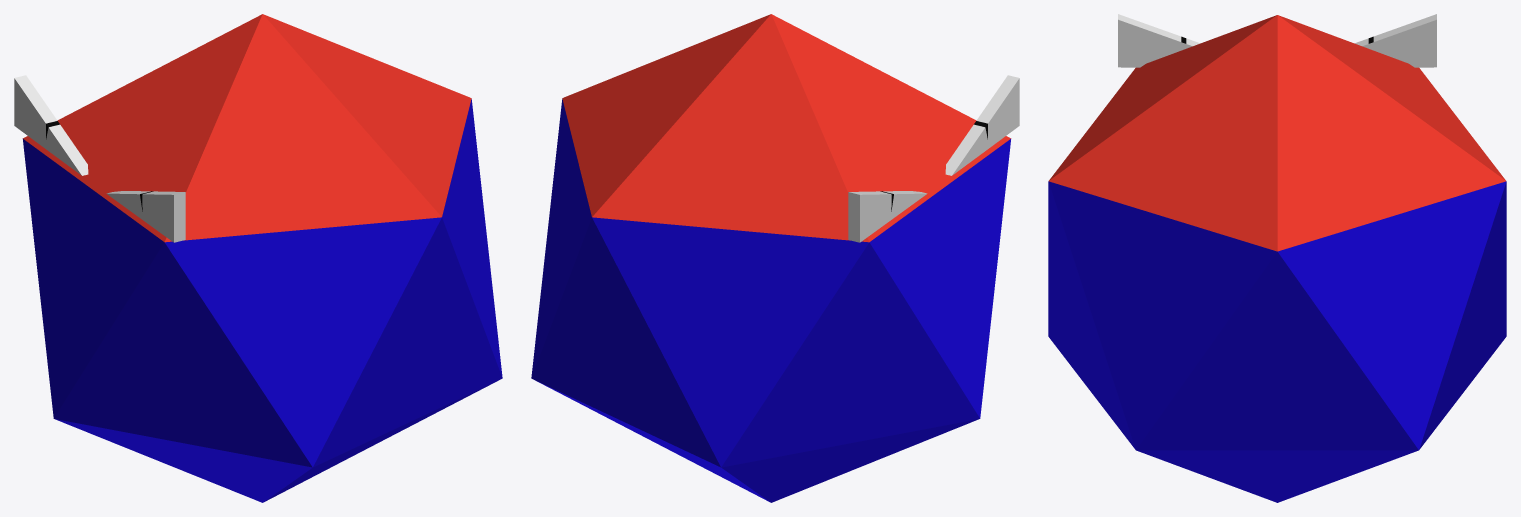
File: 100--cozypants.fbx
3 renders of one model, left to right at view 1: azimuth 30°, elevation 25°; view 2: azimuth 150°, elevation 25°; view 3: azimuth 270°, elevation 25°, orthographic.
Visible parts, largest first — view 1: Body, Eyes; view 2: Body, Eyes; view 3: Body, Eyes.
Boxes of the visible parts, x1,y1,x2,y2 form: Body: (22, 14, 502, 502); Eyes: (14, 75, 185, 242); Body: (531, 14, 1011, 502); Eyes: (848, 75, 1019, 242); Body: (1048, 15, 1506, 502); Eyes: (1118, 14, 1436, 67).
Bounding box in the file's own units: 179 × 200 × 170.
